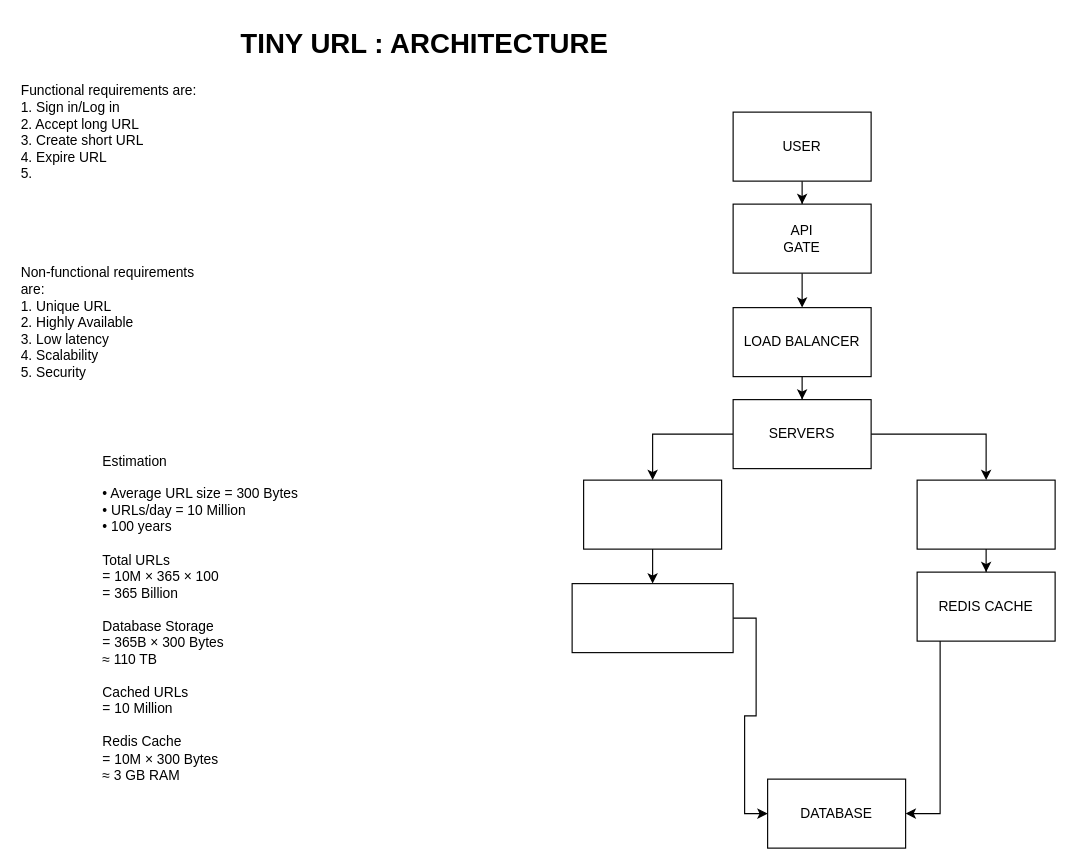
Image size: 1075x868. Some labels were removed from this diagram. Here are the shapes that lost their labels. From the top down, the box of each, then its label:
(582, 479, 722, 549): SHORT URL CREATION
(916, 479, 1055, 549): REDIRECTION
(571, 582, 733, 653): URL GENERATOR
